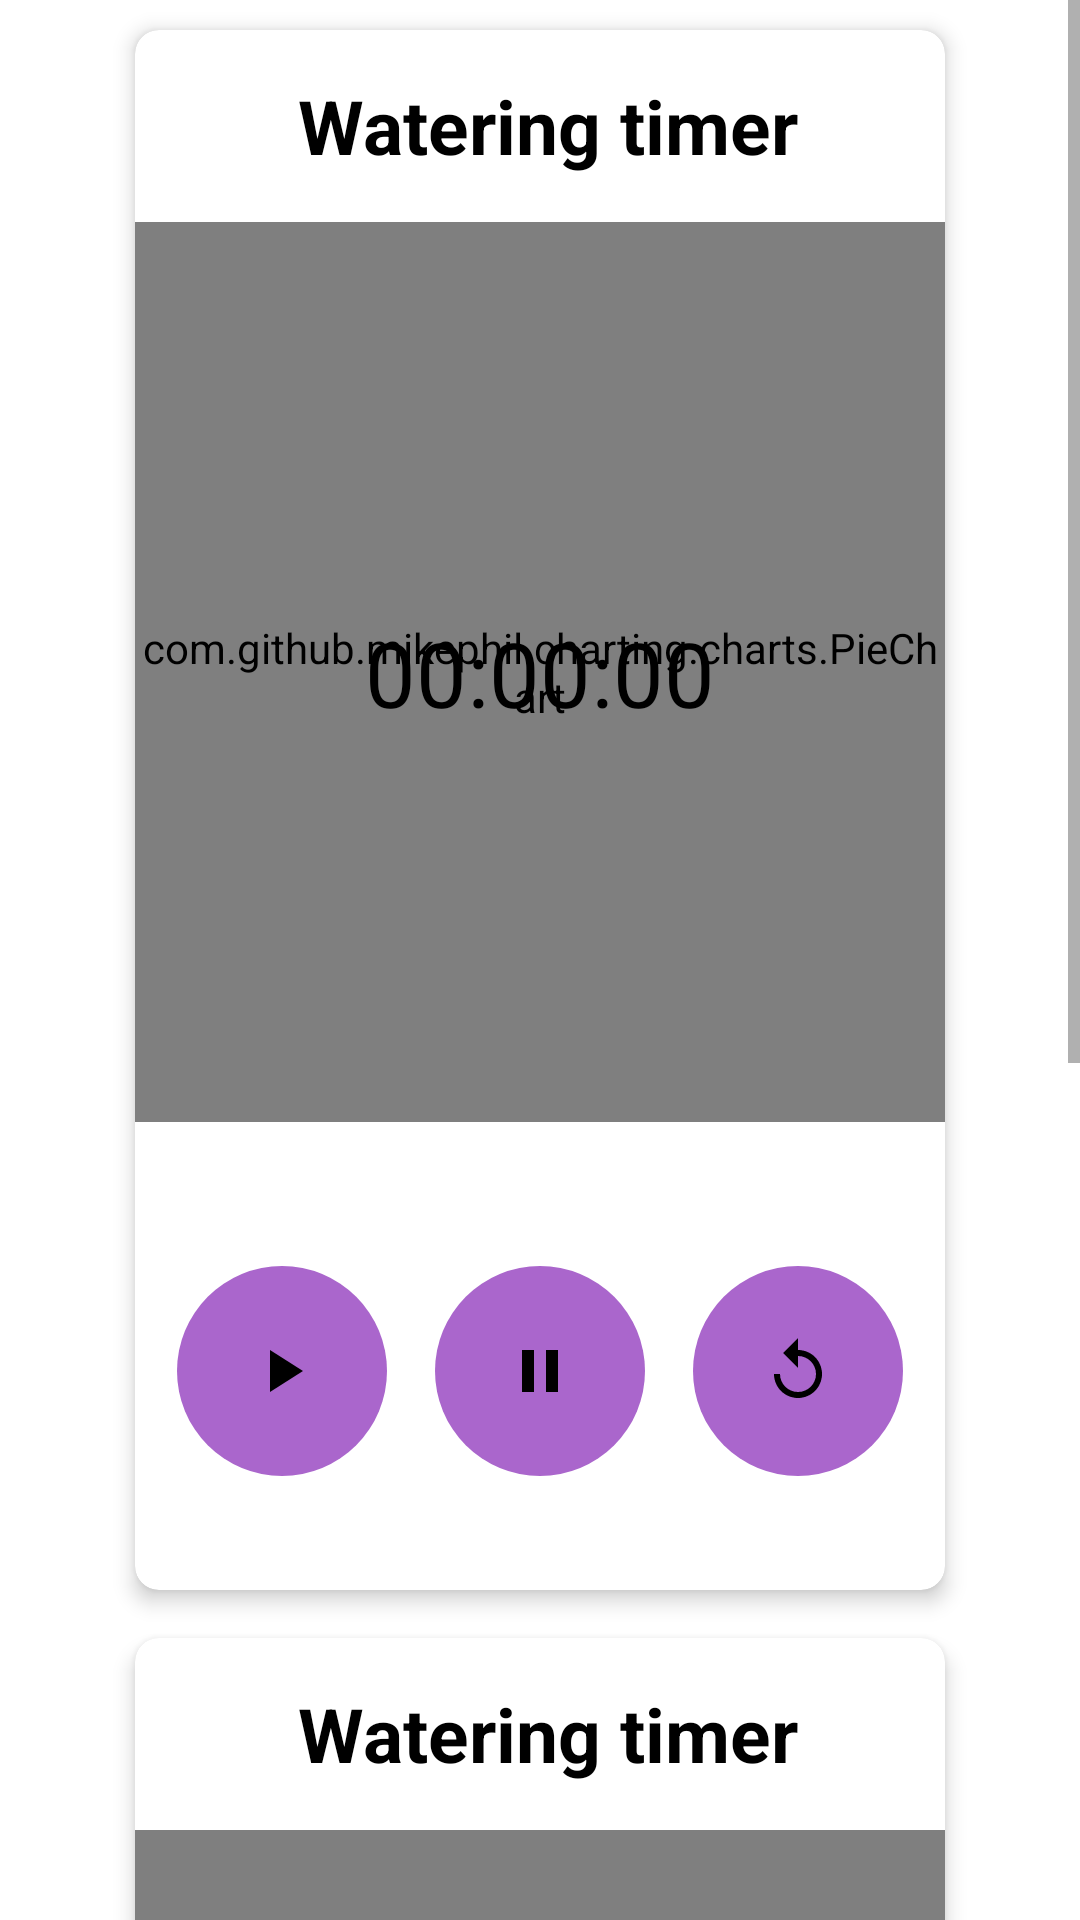

Icons on this 1080x1920 Android screen, each with the point to tap as point (x, y):
pause: point (540, 1371)
play arrow: point (286, 1371)
replay: point (798, 1368)
